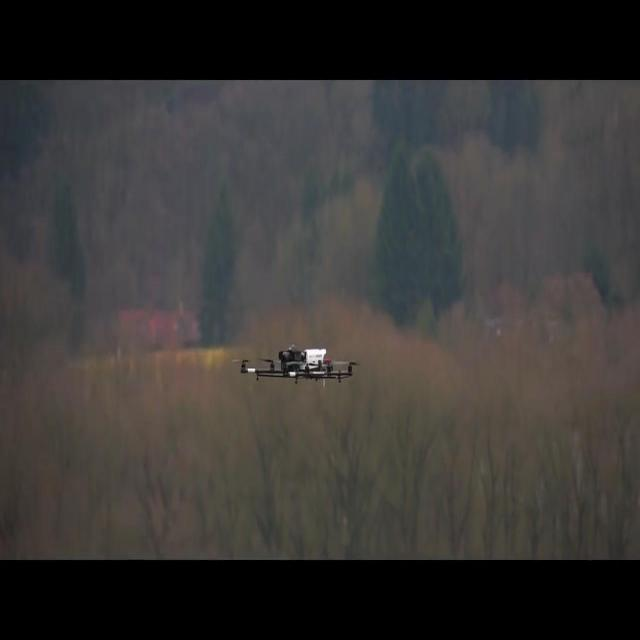UAV: (236, 343, 357, 387)
